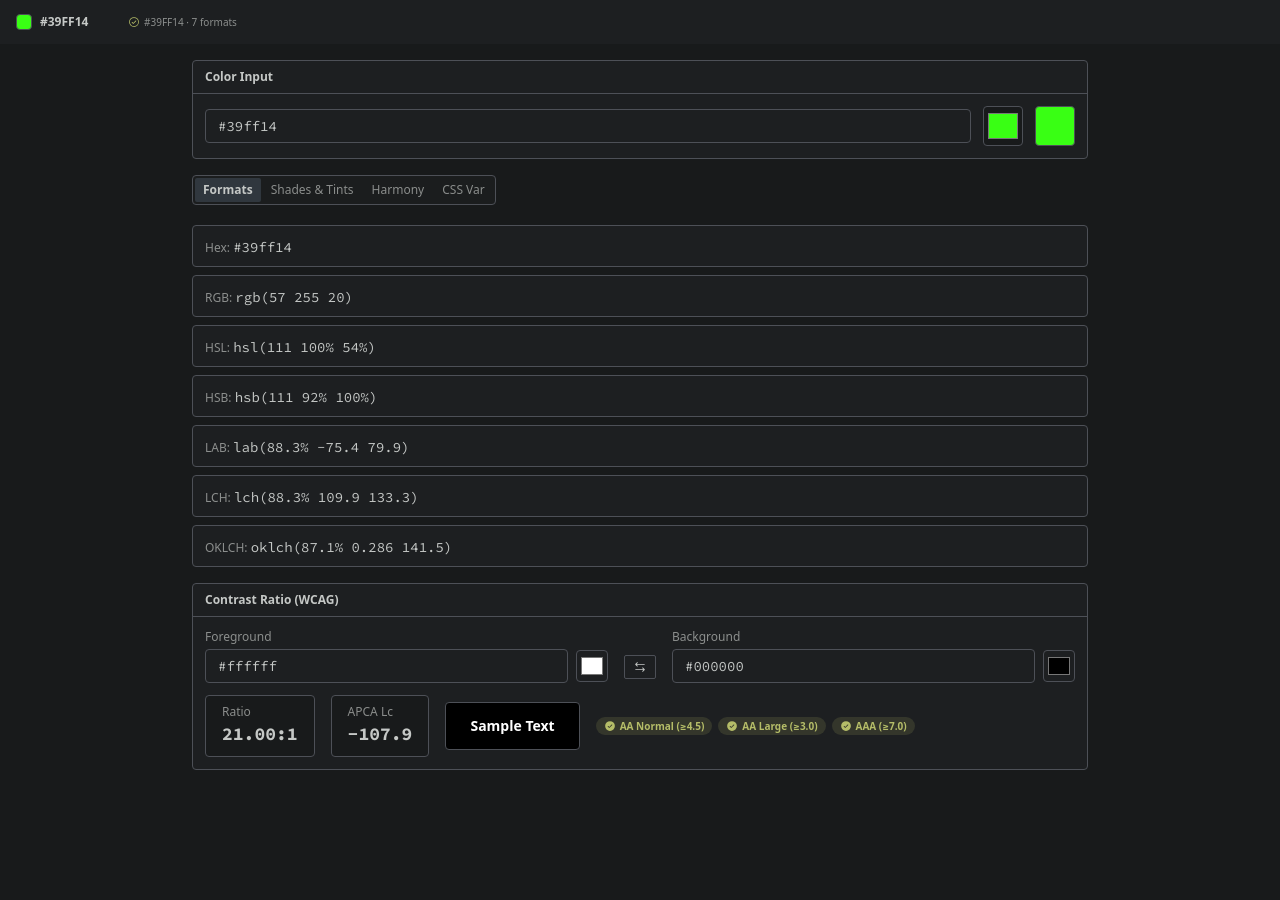
Test: ColorConverter › updates formats when input changes
The image size is (1280, 900).
Replace the text in the field with placeholder "#39ff14" with "#ff0000". click: (588, 126)
box: [205,109,971,143]
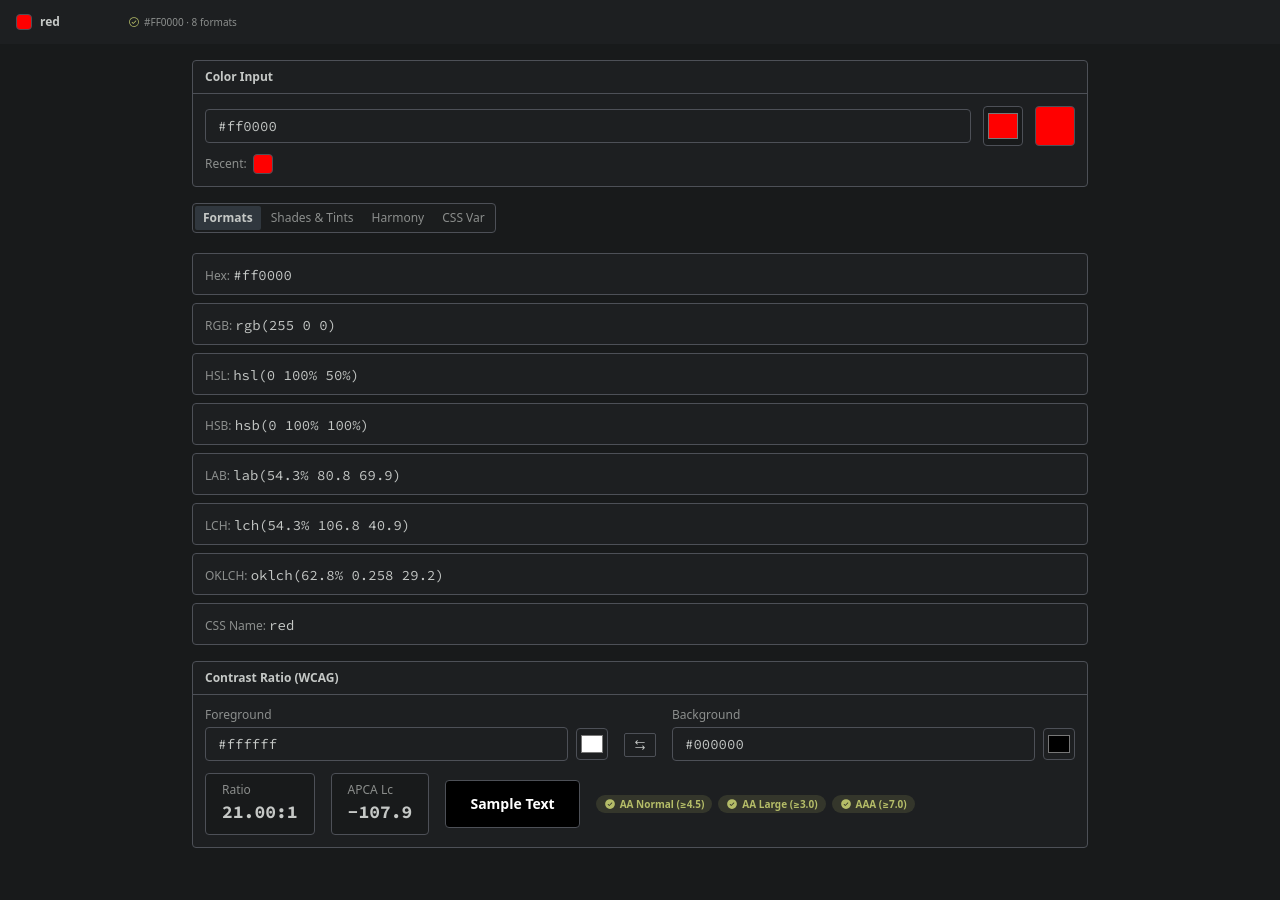
Result: the text "rgb(255 0 0)" is shown at [235,316,336,334]
